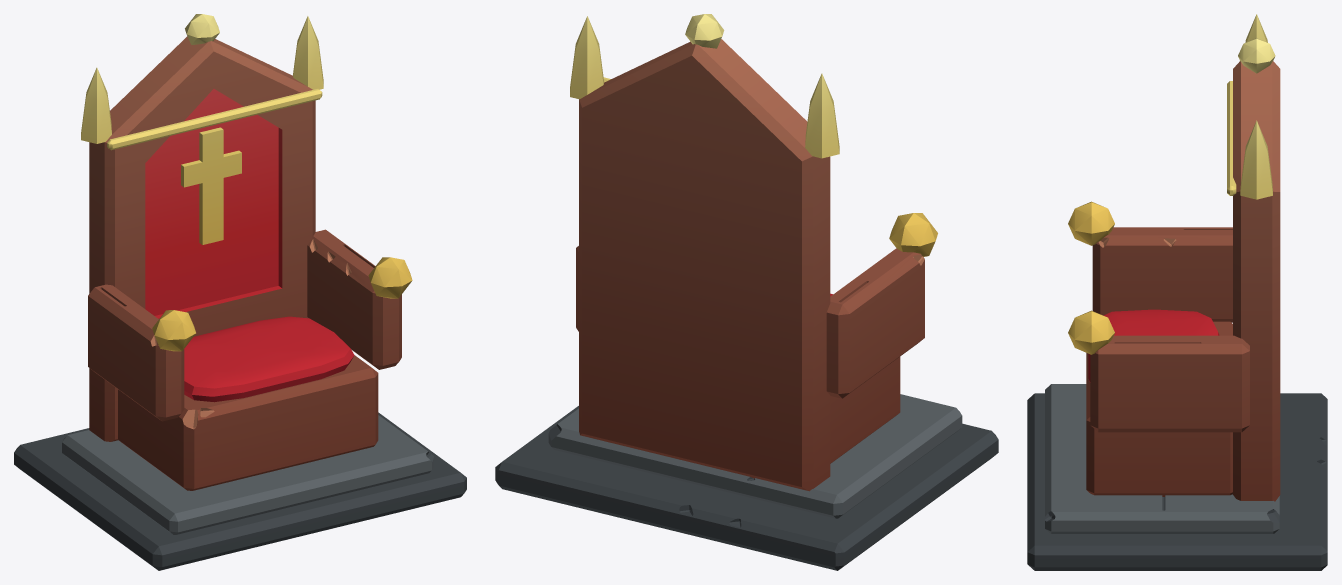
The model's file is throne.glb.
3 views of the same model, side by side, from view 1: azimuth 30°, elevation 25°; view 2: azimuth 150°, elevation 25°; view 3: azimuth 270°, elevation 25° (orthographic). The views are drawn at different scales.
Parts seen in each view (by area): view 1: throne; view 2: throne; view 3: throne.
Boxes of the visible parts, x1,y1,x2,y2 form: throne: [14, 14, 466, 570]; throne: [495, 14, 998, 570]; throne: [1027, 14, 1327, 570].
Bounding box in the file's own units: 2.38 × 3.2 × 1.91.
Materials: 1 (1 with a texture image).
